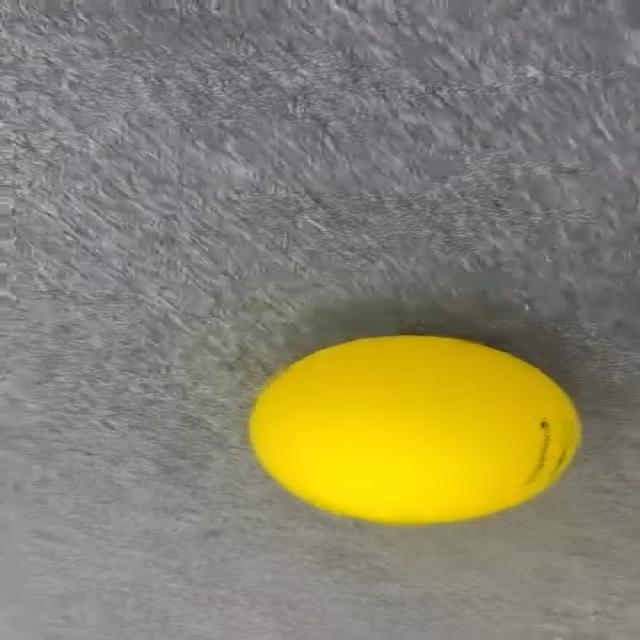Fuels: (251, 335, 578, 522)
